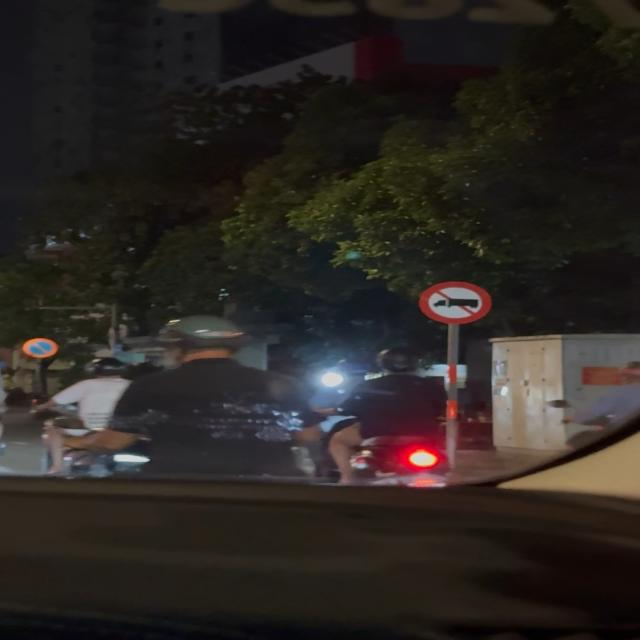Bien bao cam do xe: (23, 338, 62, 360)
Bien bao cam xe so-mi ro-mooc: (417, 279, 497, 327)
